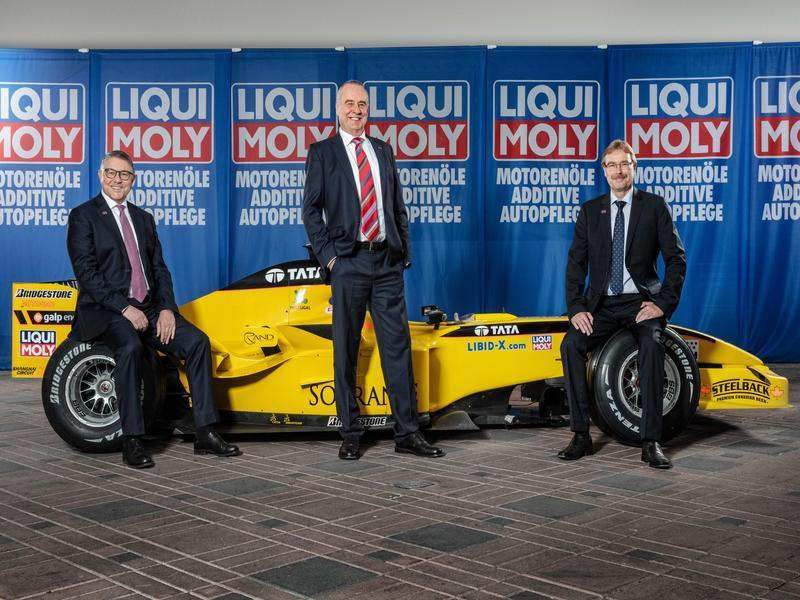f1: (29, 232, 794, 464)
